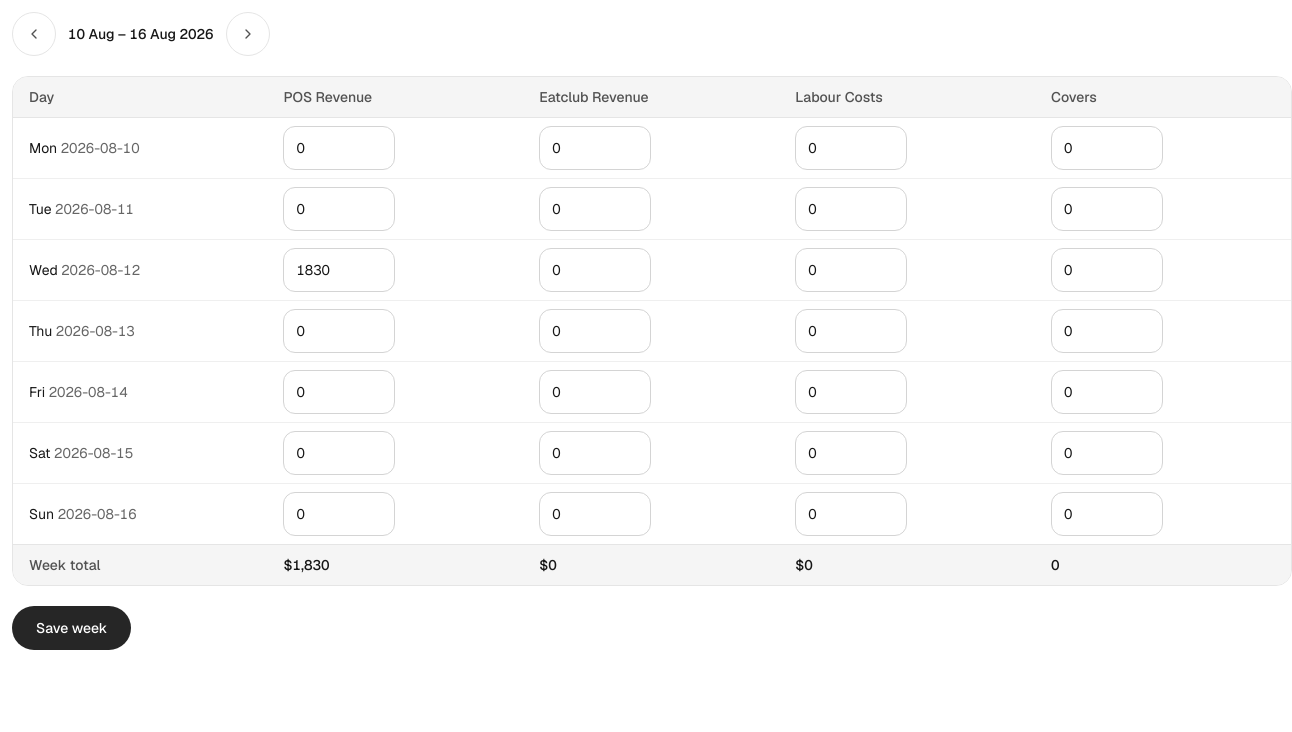
Test: AS-021: saving sends the whole week › confirms the save so the manager knows it landed
Expected: the number field named "POS Revenue 2026-08-10" is shown, [283,126,395,170]
Click the button "Save week": click(72, 628) [12,606,131,650]
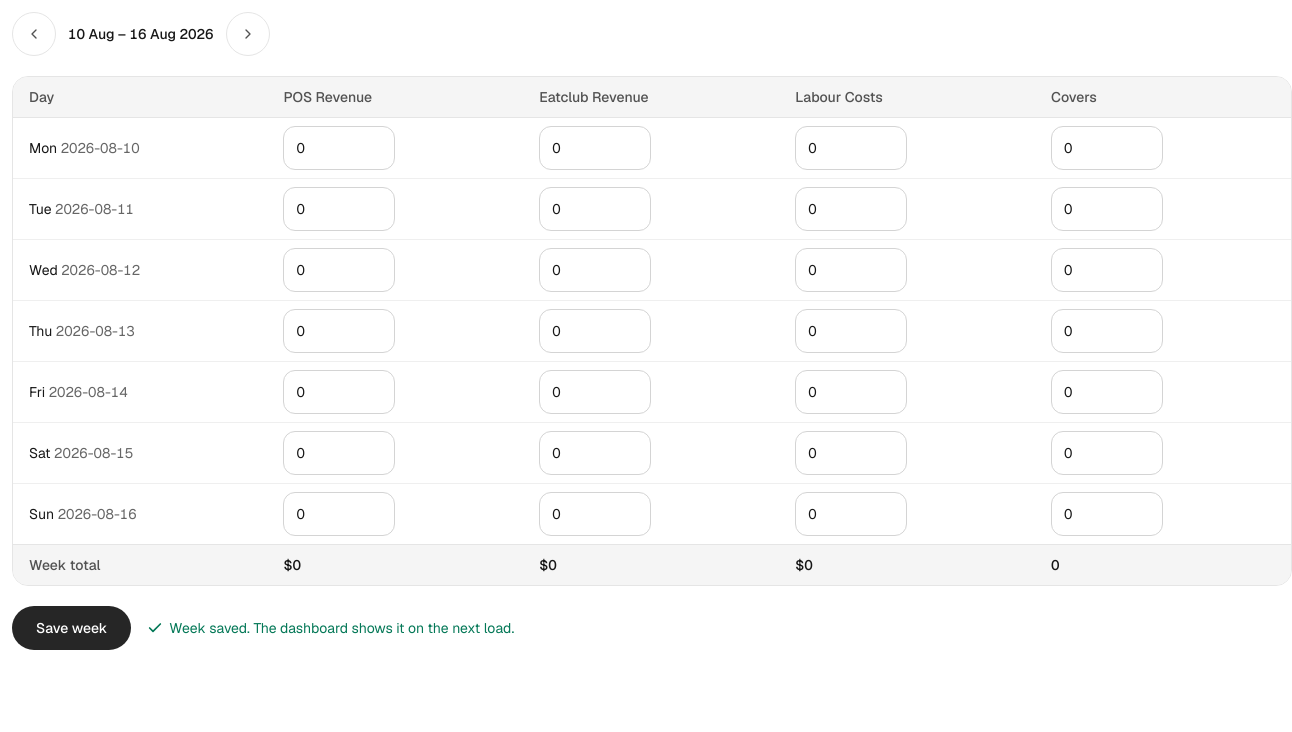
Expected: the message shows "Week saved", [169,619,514,637]
